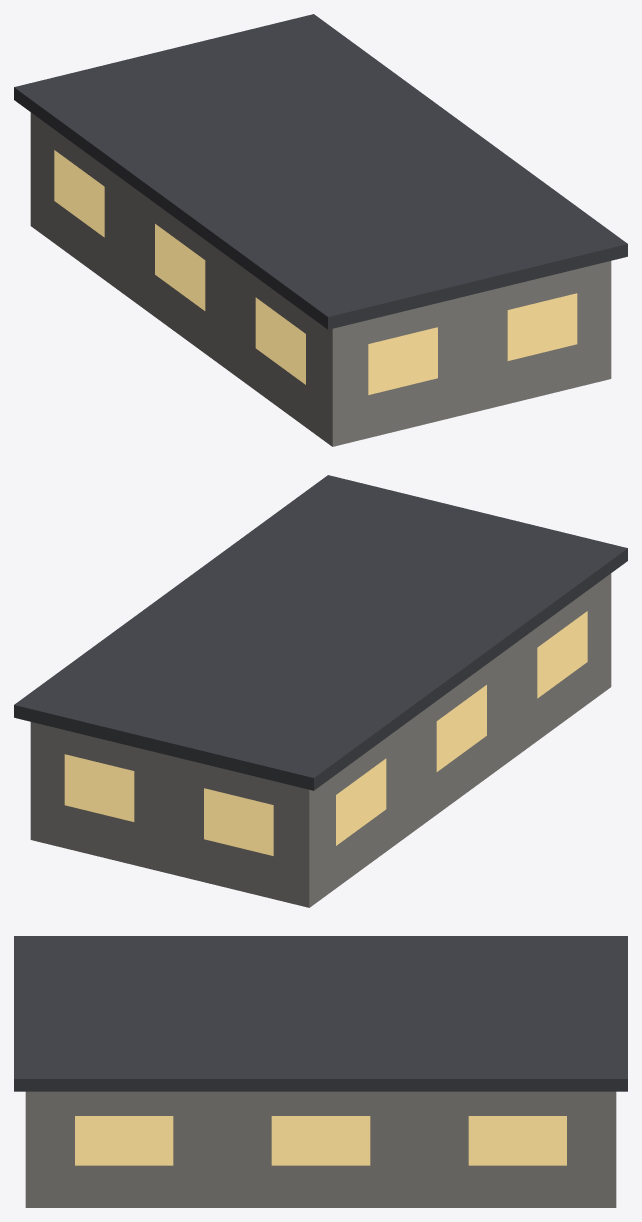
File: h28_port_cbp_booth.gltf
The picture shows the model from 3 angles, top to bottom: view 1: azimuth 30°, elevation 25°; view 2: azimuth 150°, elevation 25°; view 3: azimuth 270°, elevation 25°; orthographic projection. The views are drawn at different scales.
Visible parts, largest first — view 1: h28_port_cbp_booth; view 2: h28_port_cbp_booth; view 3: h28_port_cbp_booth.
Boxes of the visible parts, left/top/right/bottom form: h28_port_cbp_booth: left=14, top=14, right=627, bottom=446; h28_port_cbp_booth: left=14, top=475, right=627, bottom=907; h28_port_cbp_booth: left=14, top=936, right=627, bottom=1207.
Size of the model in its own units: 8.6 by 3.75 by 15.6.
